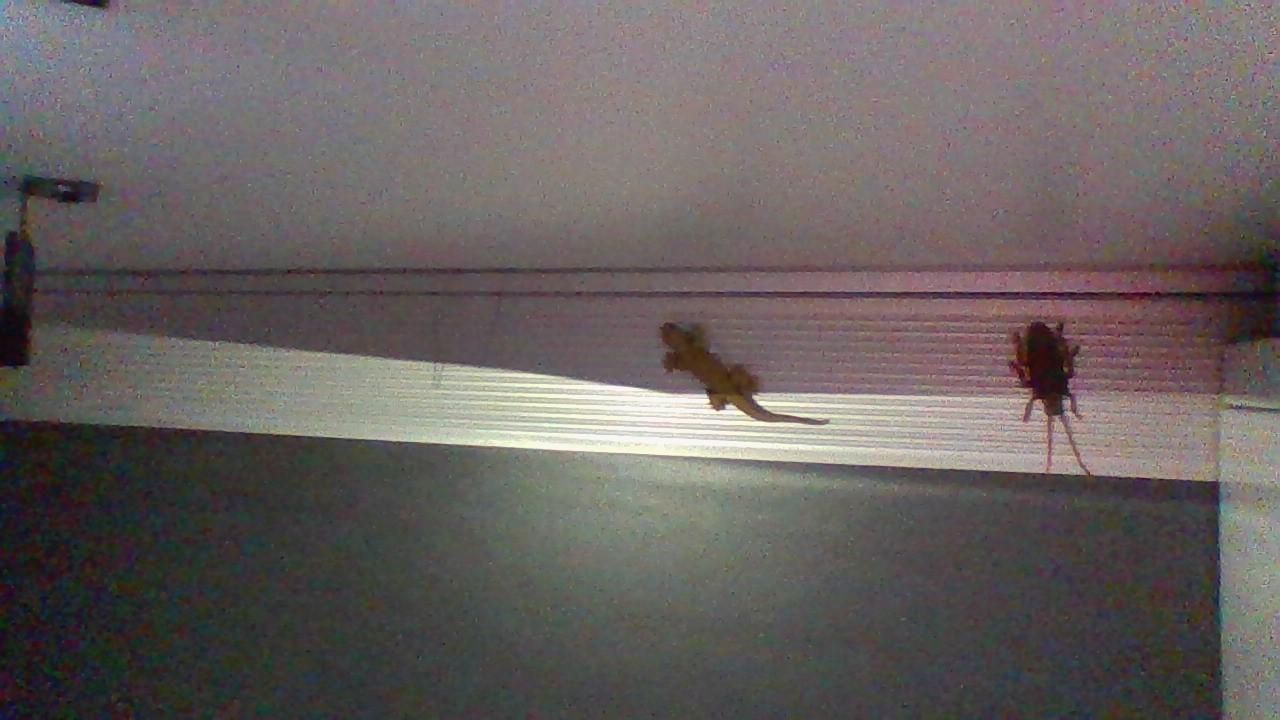cockroach: (1003, 302, 1106, 485)
lizard: (639, 320, 834, 428)
